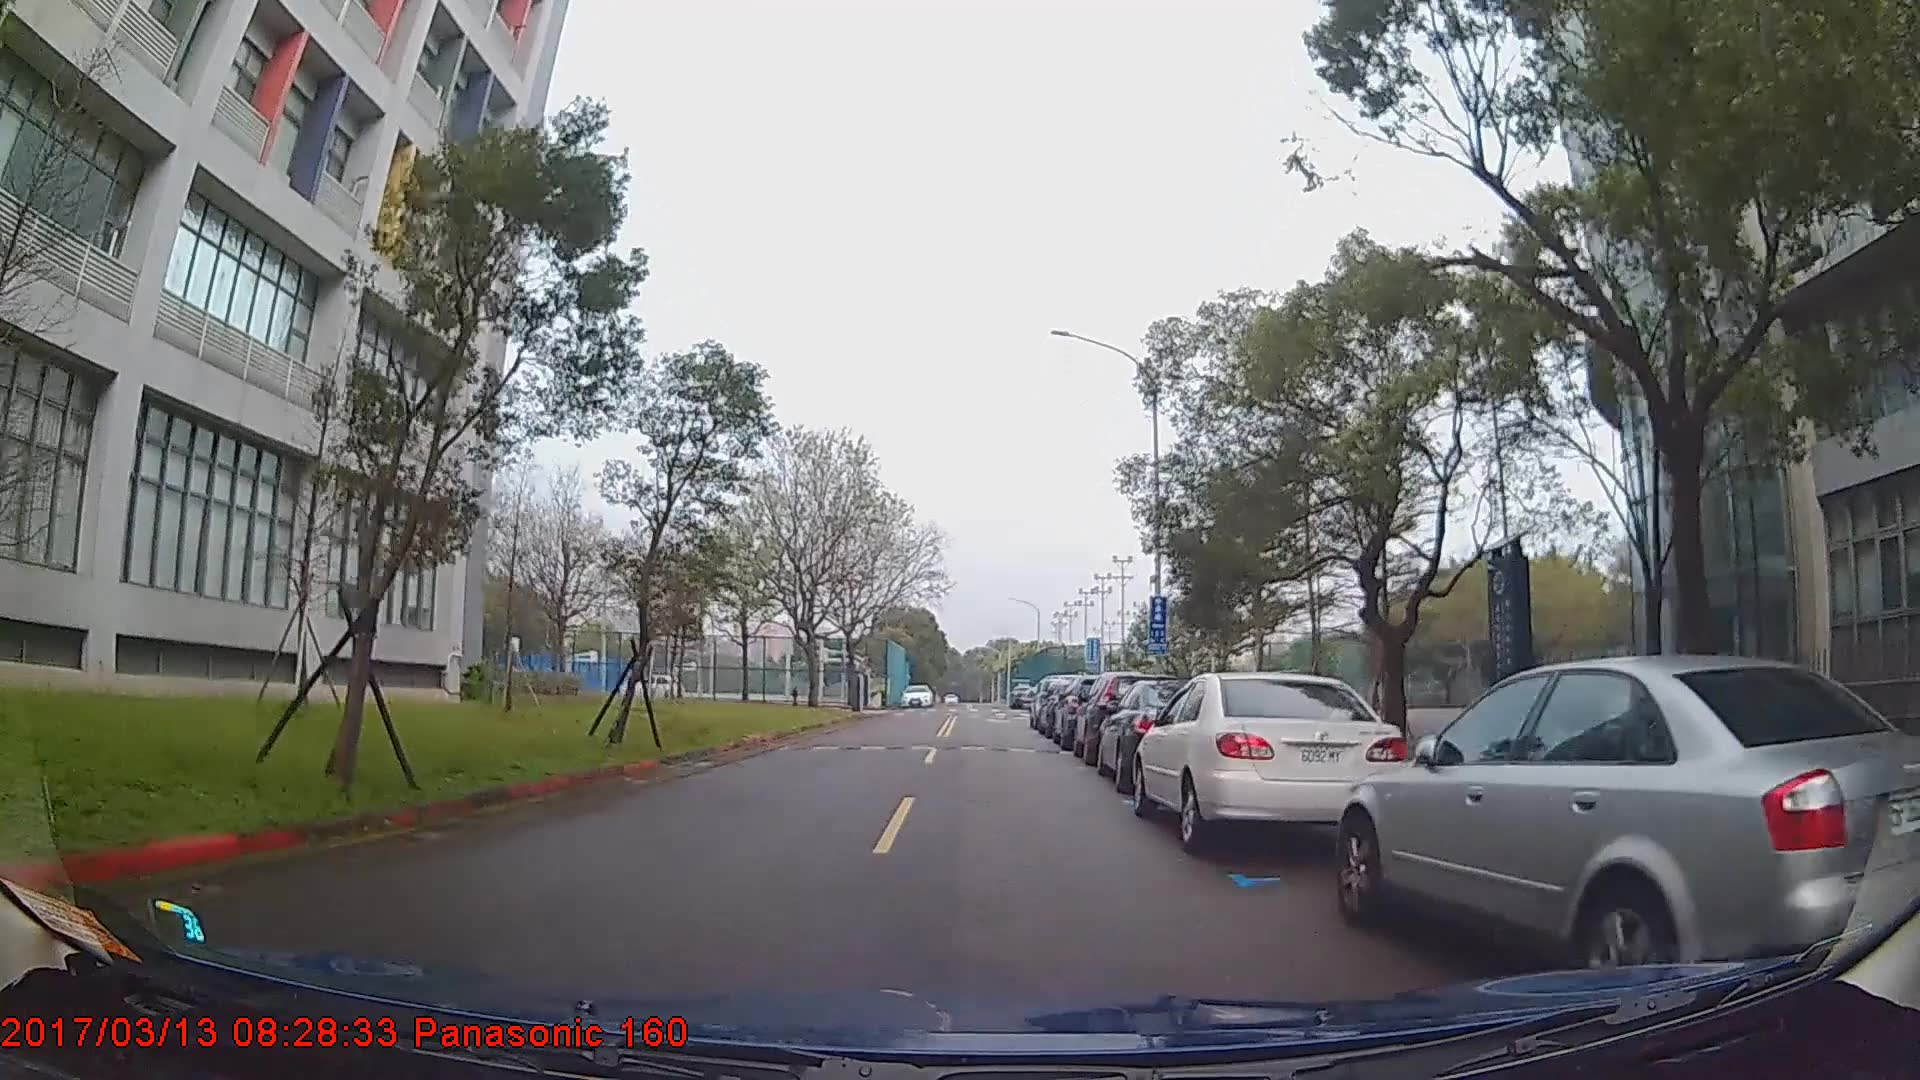vehicle: (1333, 655, 1920, 1011), (1133, 669, 1412, 856), (899, 684, 932, 708)
